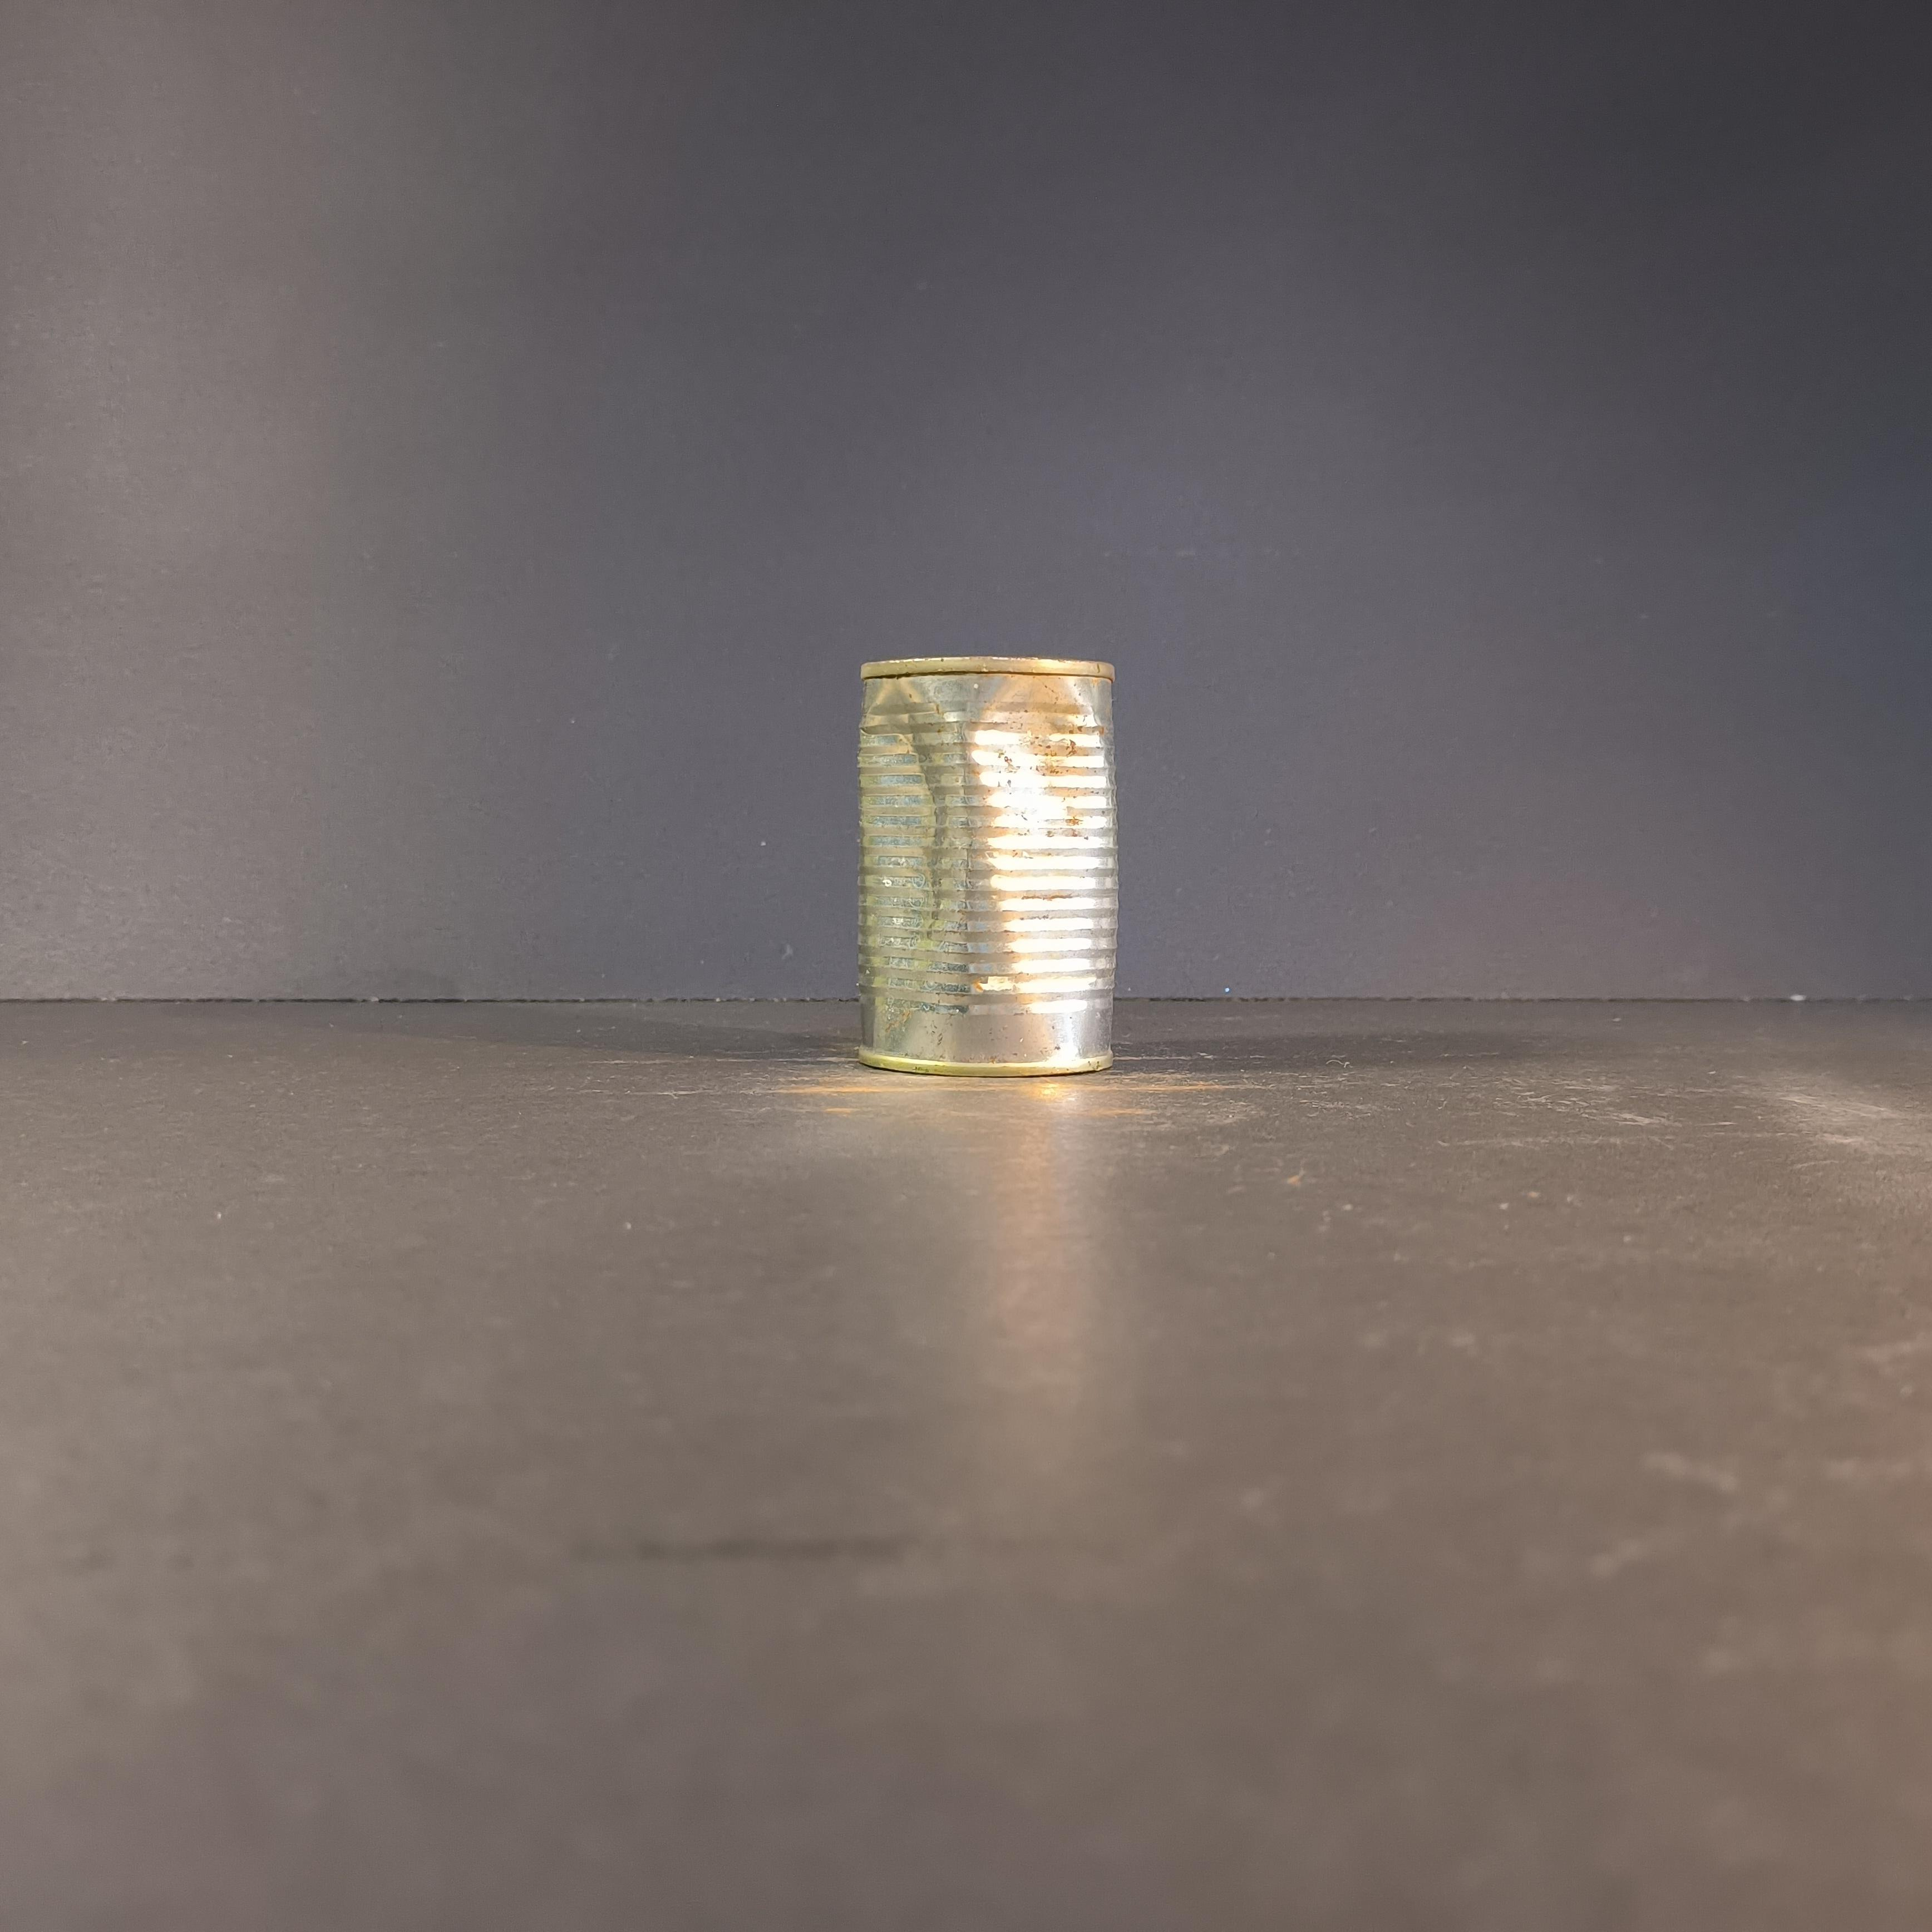Dented: (840, 632, 1141, 1090)
